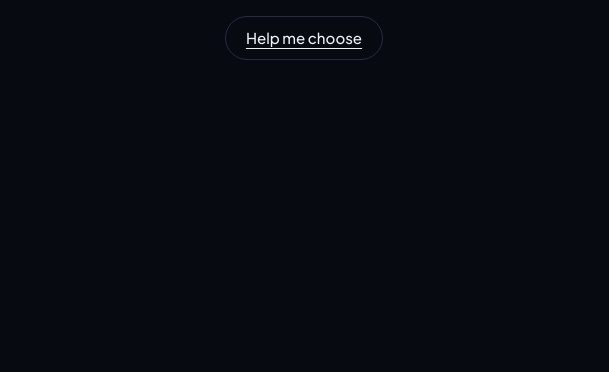
Test: Help Me Choose recommendations › labels Prime as a fictional unavailable preview on both paths
Click the button "Help me choose". click: (304, 38)
box: [225,16,383,60]
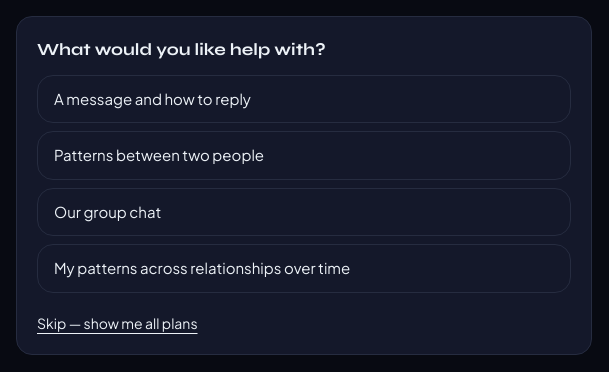
Click the button "My patterns across relationships over time". click: (304, 268)
box: [37,244,571,292]
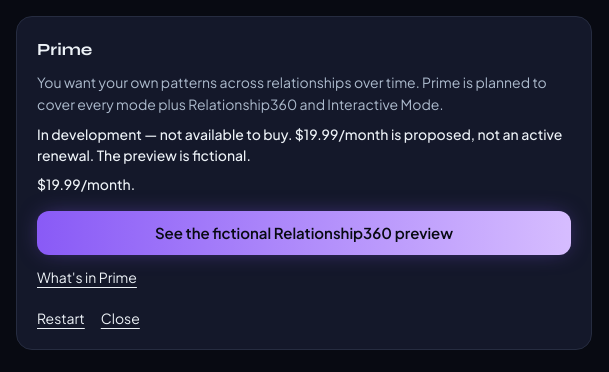
Check: the text "In development — not available to buy" is shown, box [37,125,562,164]
